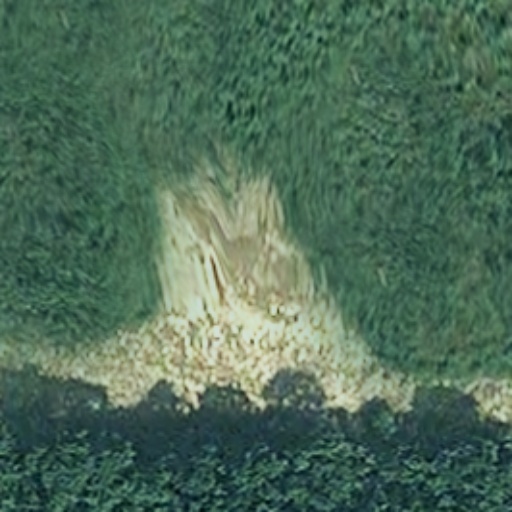landslide: (151, 156, 338, 396)
